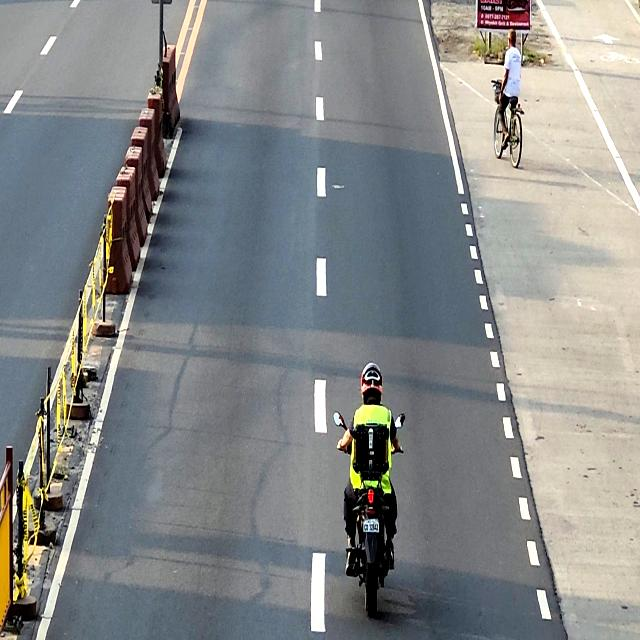Bicycle: (492, 75, 525, 170)
License-Plate: (362, 520, 380, 534)
Motorcycle: (332, 408, 406, 617)
